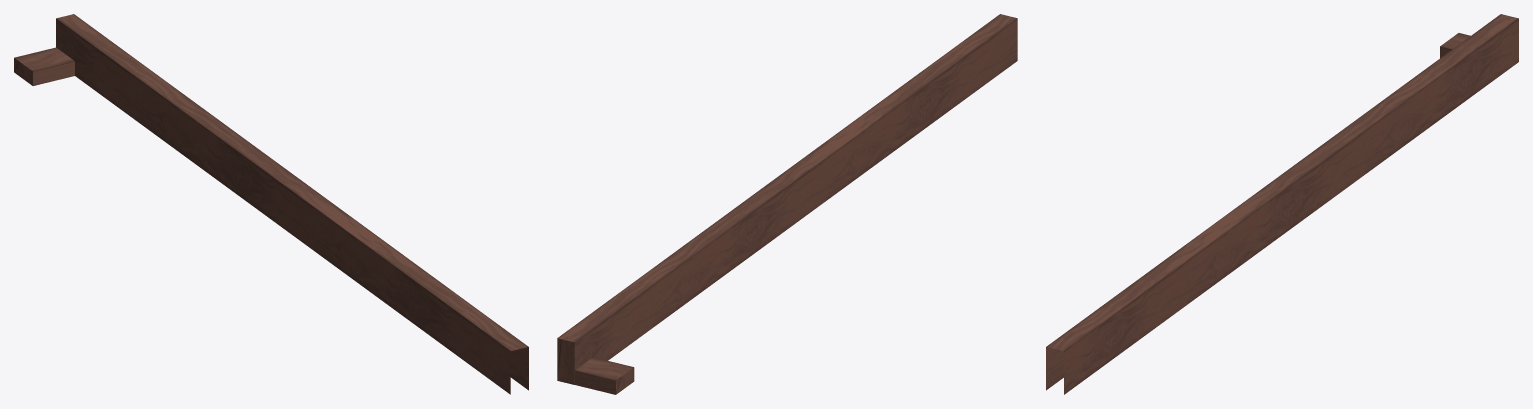
File: World_LightWallLeft.fbx
3 renders of one model, left to right at view 1: azimuth 30°, elevation 25°; view 2: azimuth 150°, elevation 25°; view 3: azimuth 330°, elevation 25°, orthographic. The views are drawn at different scales.
Parts seen in each view (by area): view 1: World_LightWallLeft; view 2: World_LightWallLeft; view 3: World_LightWallLeft.
Boxes of the visible parts, x1=… form: World_LightWallLeft: x1=14, y1=14, x2=528, y2=394; World_LightWallLeft: x1=557, y1=14, x2=1017, y2=394; World_LightWallLeft: x1=1046, y1=14, x2=1518, y2=394.
Size of the model in its own units: 0.314 by 0.2184 by 4.12.
